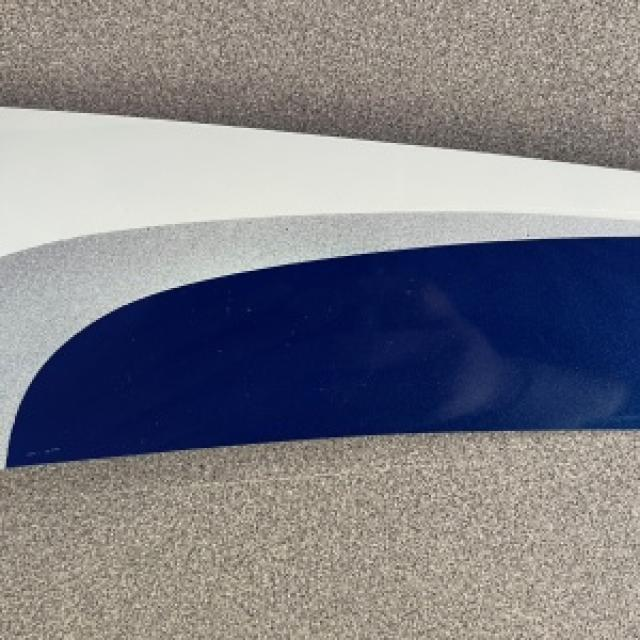healthy: (0, 107, 638, 465)
